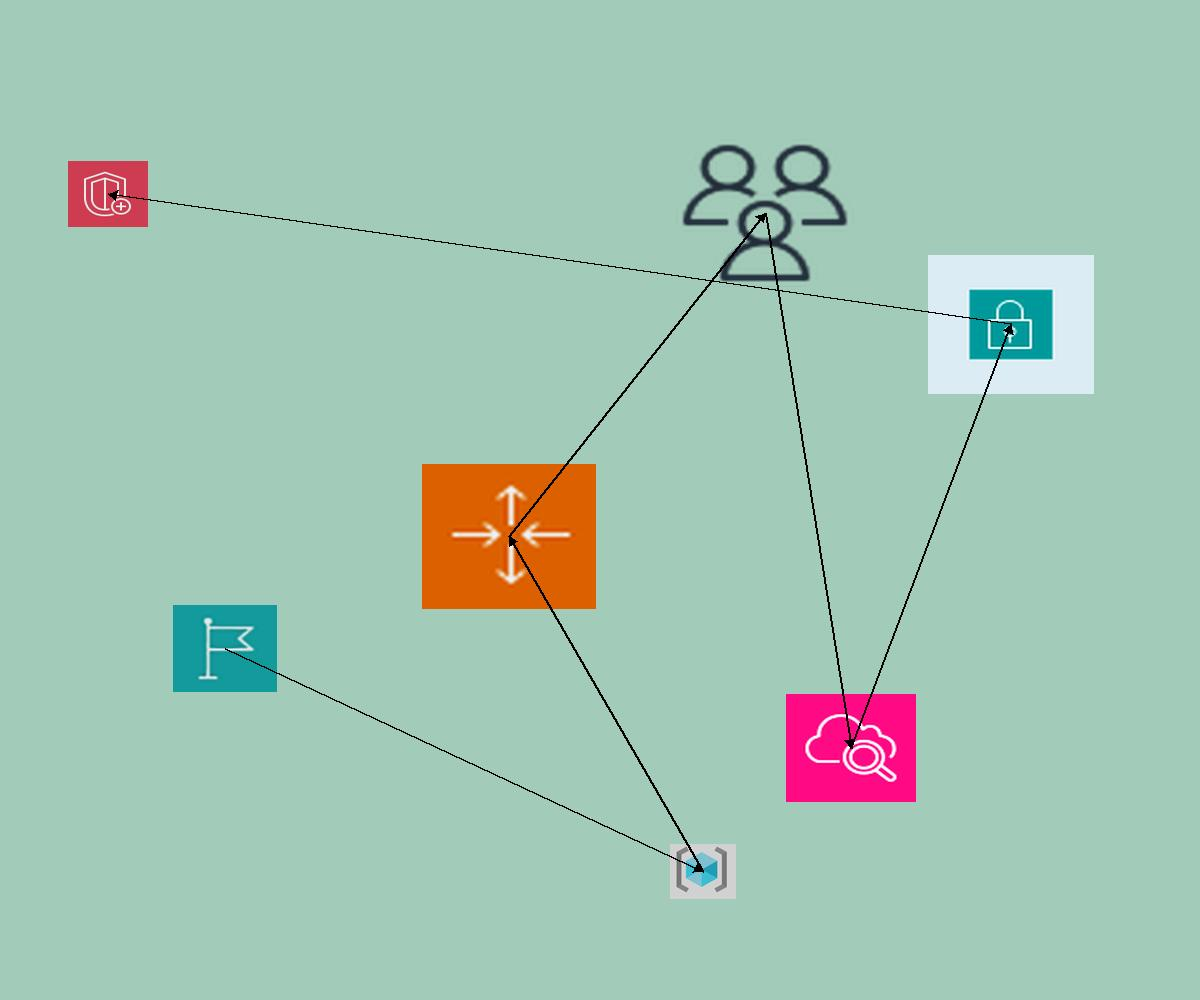AWS-CloudWatch: (786, 694, 916, 802)
AWS-Private-subnet: (928, 255, 1094, 394)
AWS-Region: (173, 605, 277, 692)
AWS-Res_Users: (676, 139, 854, 287)
AWS-Scaling-group: (422, 464, 596, 609)
AWS-Shield: (68, 161, 148, 227)
Azure_resource_group: (670, 844, 736, 899)
